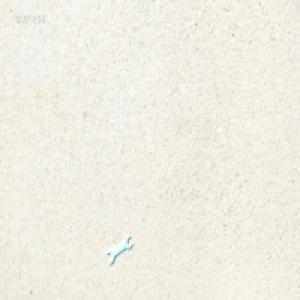Wrench: (107, 236, 132, 265)
